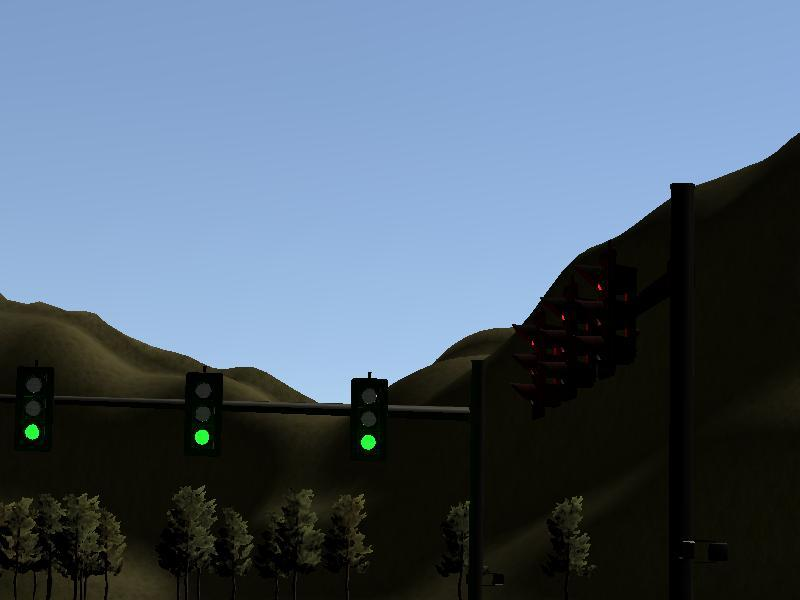Green: (348, 377, 387, 463), (183, 373, 222, 459), (13, 365, 52, 451)
